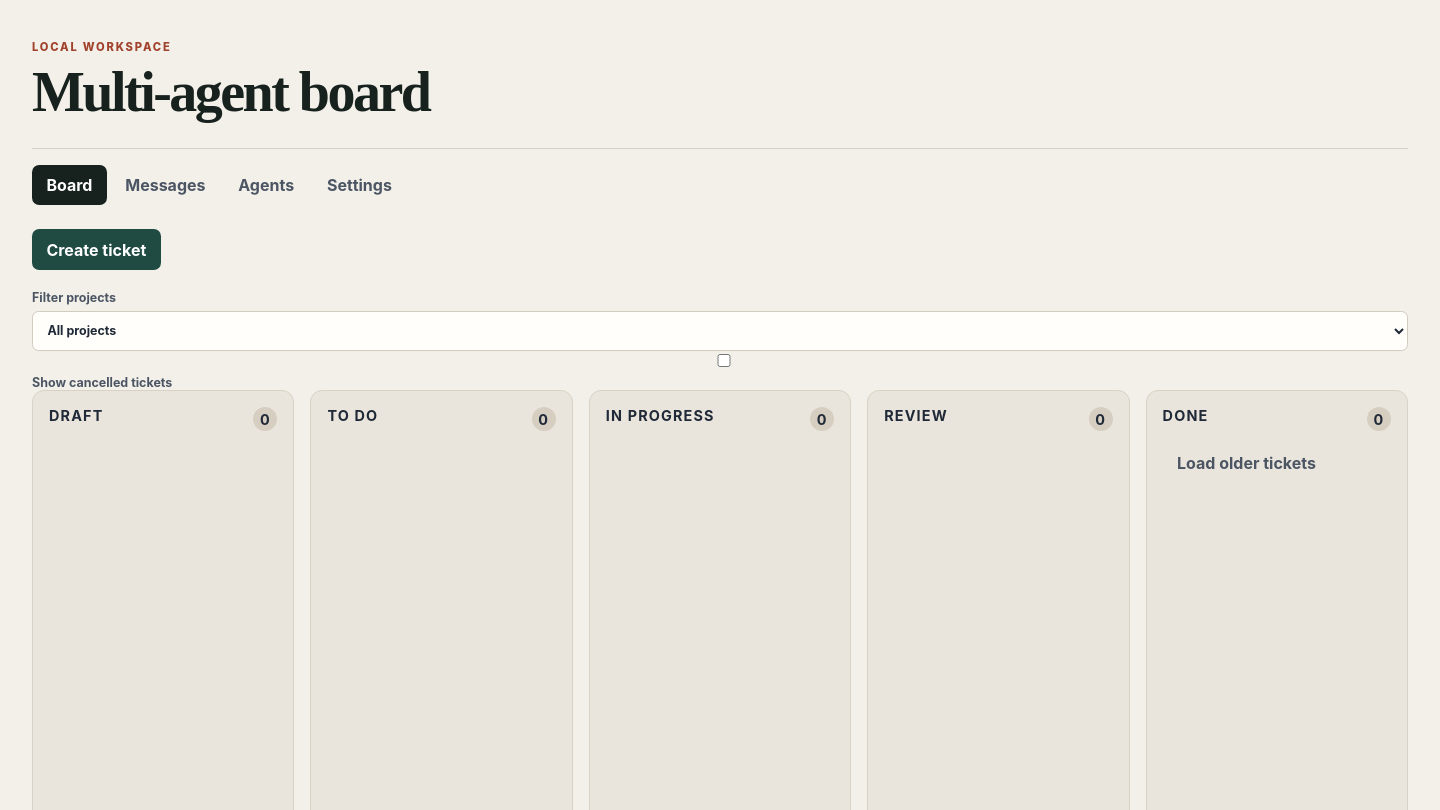
Scenario: App agent routes › loads terminal history on demand and details only when opened
Expected: the dropdown labelled "Filter projects" is shown, [32, 311, 1408, 351]
Expected: the text "Historical work" is not shown
What coordinates should you click on to do the following:
click the button "Load older tickets"
I would click on:
 (1246, 464)
Its box is [1163, 443, 1330, 484].
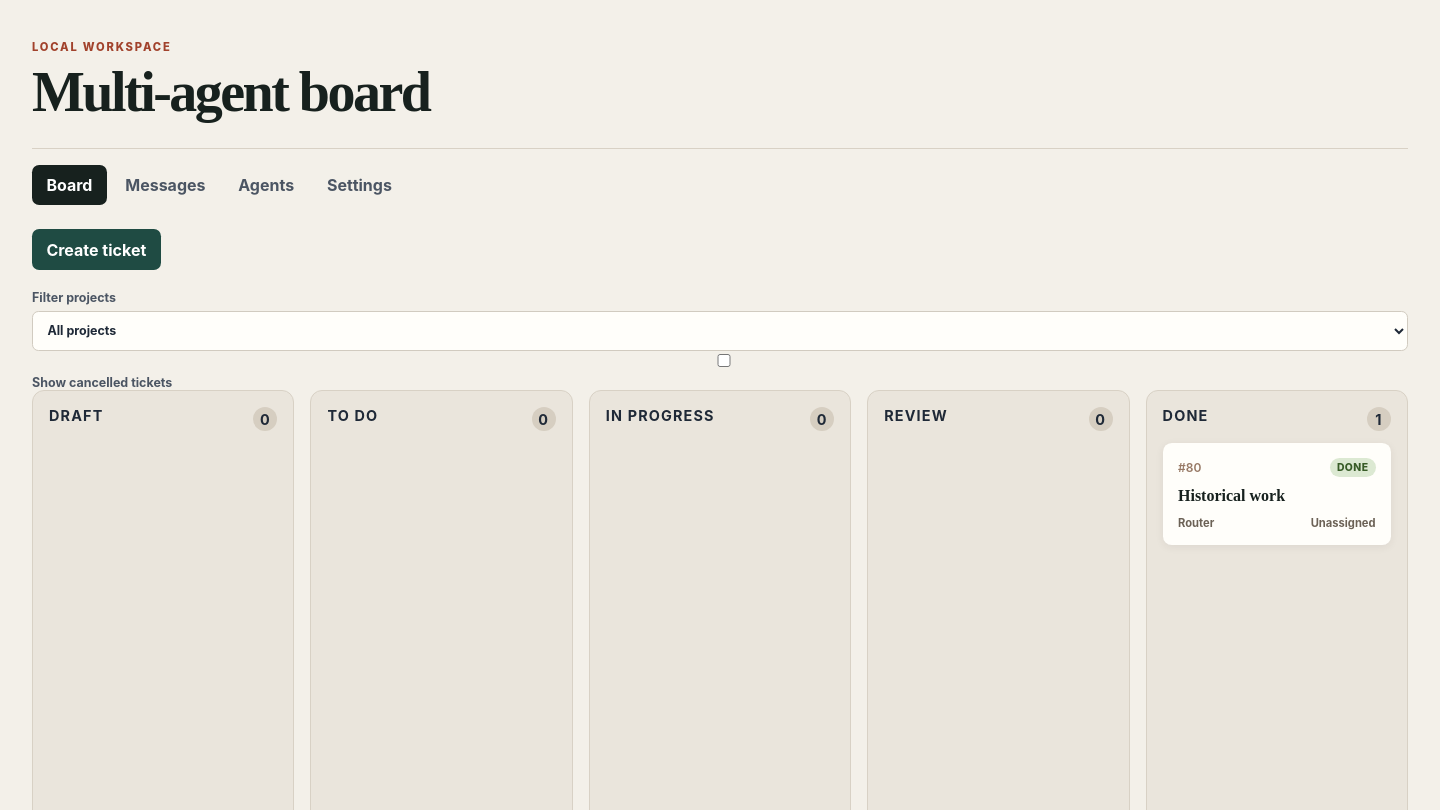
Result: the text "Historical work" is shown at [1178, 487, 1285, 504]
What coordinates should you click on to do the following:
click the button "Historical work"
I would click on:
 (1277, 494)
Its box is [1163, 443, 1391, 545].
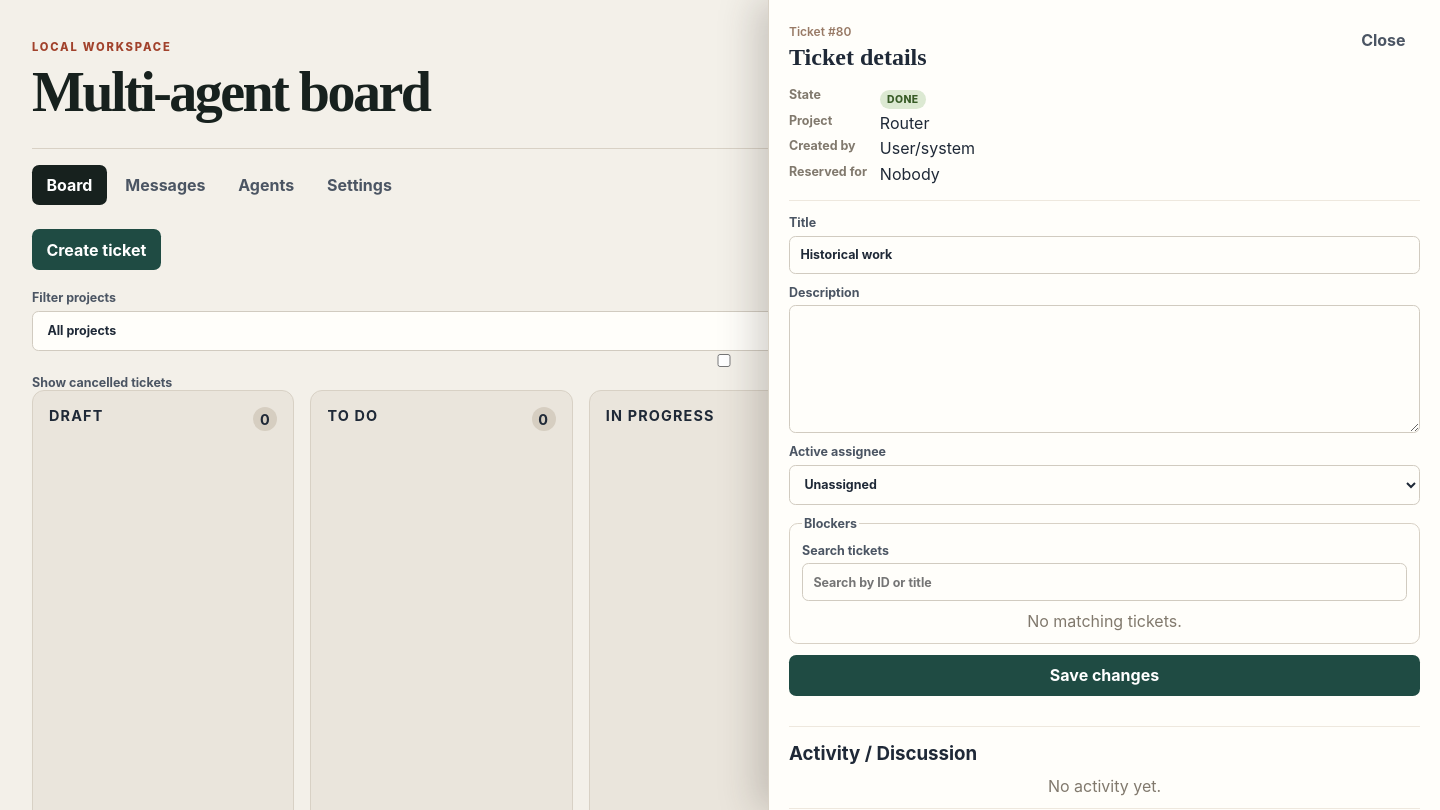
Result: the field showing "Historical work" is shown at [789, 236, 1420, 274]
